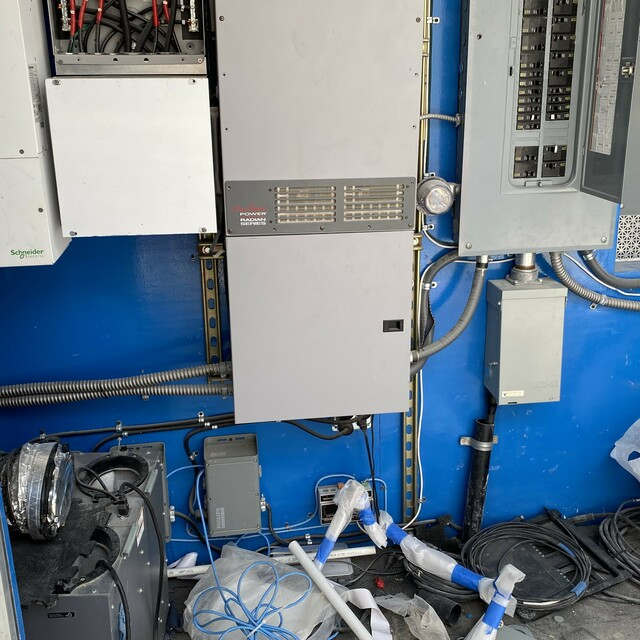inverter: (219, 1, 436, 436)
